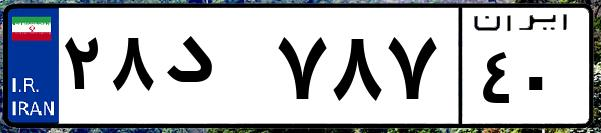0: (525, 38, 570, 115)
2: (57, 26, 110, 100)
4: (475, 38, 525, 113)
7: (270, 28, 330, 110), (385, 28, 445, 110)
8: (330, 28, 385, 110), (110, 28, 158, 98)
د: (158, 20, 270, 120)
